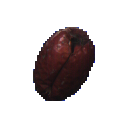ng: (21, 21, 106, 107)
